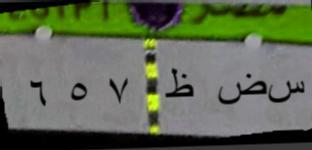5: (67, 77, 92, 109)
6: (27, 75, 51, 110)
7: (105, 69, 132, 110)
Thaa: (163, 62, 193, 108)
daad: (214, 70, 267, 112)
seen: (268, 70, 308, 109)
